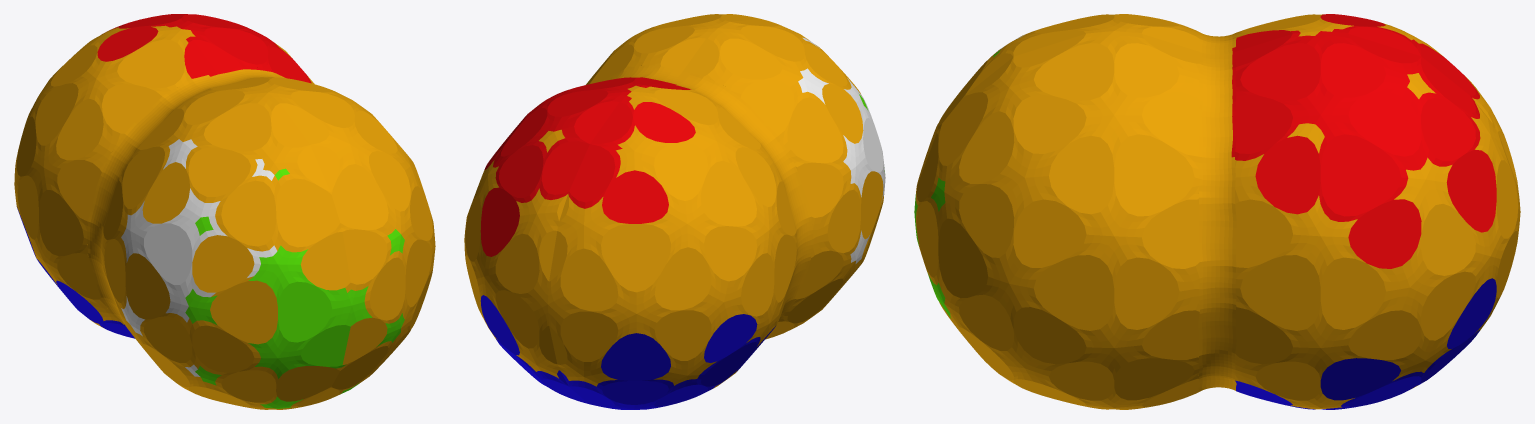
Rendered from silly thing.glb.
3 renders of one model, left to right at view 1: azimuth 30°, elevation 25°; view 2: azimuth 150°, elevation 25°; view 3: azimuth 270°, elevation 25°, orthographic. The views are drawn at different scales.
Visible parts, largest first — view 1: Icosphere, p1, Icosphere.001, Icosphere.002, Icosphere.003; view 2: Icosphere, Icosphere.002, Icosphere.003, Icosphere.001; view 3: Icosphere, Icosphere.002, Icosphere.003, p1.
Part boxes in pixels (left/top/right/bottom): Icosphere: left=14, top=25, right=435, bottom=409; p1: left=185, top=168, right=404, bottom=408; Icosphere.001: left=121, top=139, right=277, bottom=376; Icosphere.002: left=97, top=14, right=311, bottom=83; Icosphere.003: left=17, top=207, right=134, bottom=338; Icosphere: left=464, top=14, right=884, bottom=388; Icosphere.002: left=480, top=77, right=695, bottom=256; Icosphere.003: left=480, top=295, right=775, bottom=409; Icosphere.001: left=798, top=37, right=885, bottom=263; Icosphere: left=916, top=14, right=1520, bottom=409; Icosphere.002: left=1231, top=14, right=1496, bottom=268; Icosphere.003: left=1235, top=278, right=1496, bottom=409; p1: left=914, top=50, right=1000, bottom=318.
Bounding box in the file's own units: 1.9 × 1.93 × 2.93.
